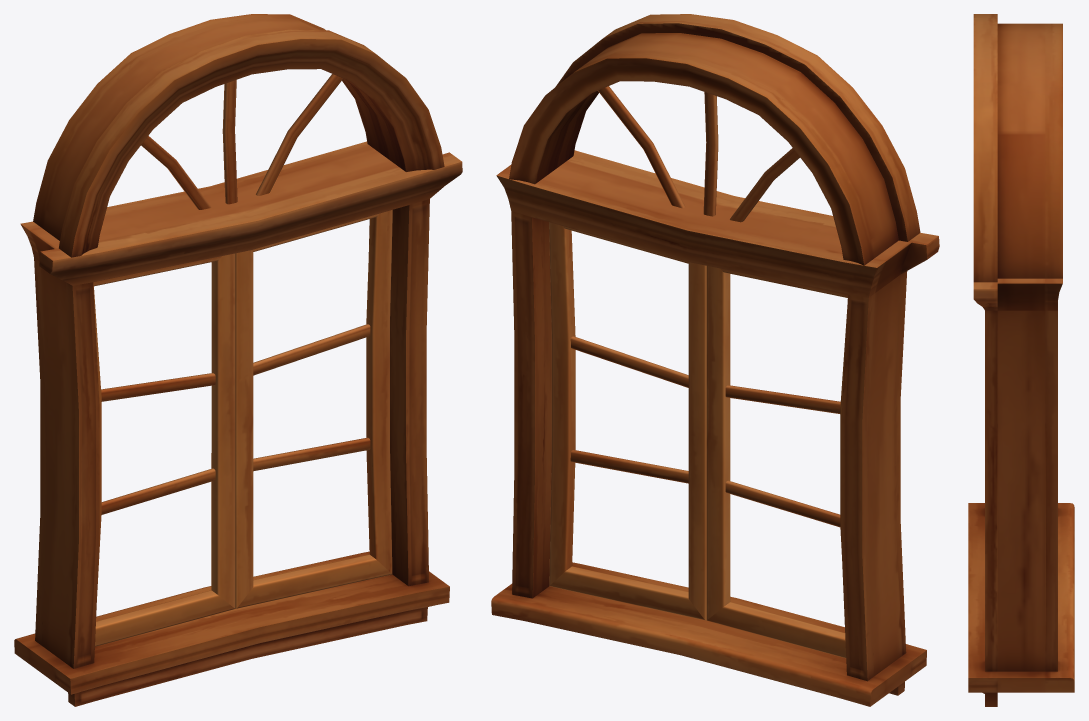
Rendered from PropWindow01TypeH_2_2.FBX.
3 renders of one model, left to right at view 1: azimuth 30°, elevation 25°; view 2: azimuth 150°, elevation 25°; view 3: azimuth 270°, elevation 25°, orthographic. The views are drawn at different scales.
Parts seen in each view (by area): view 1: PropWindow01TypeH_2_2; view 2: PropWindow01TypeH_2_2; view 3: PropWindow01TypeH_2_2.
Boxes of the visible parts, x1,y1,x2,y2 form: PropWindow01TypeH_2_2: (14, 14, 462, 706); PropWindow01TypeH_2_2: (491, 14, 939, 706); PropWindow01TypeH_2_2: (968, 14, 1074, 706).
Size of what is drawn, in the model's own units: 1.87 by 2.72 by 0.4449.
